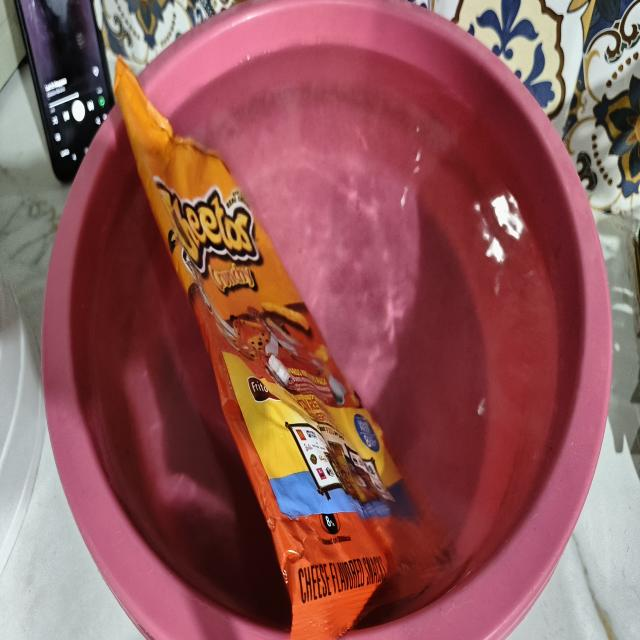Plastic Wrapper: (114, 56, 442, 640)
